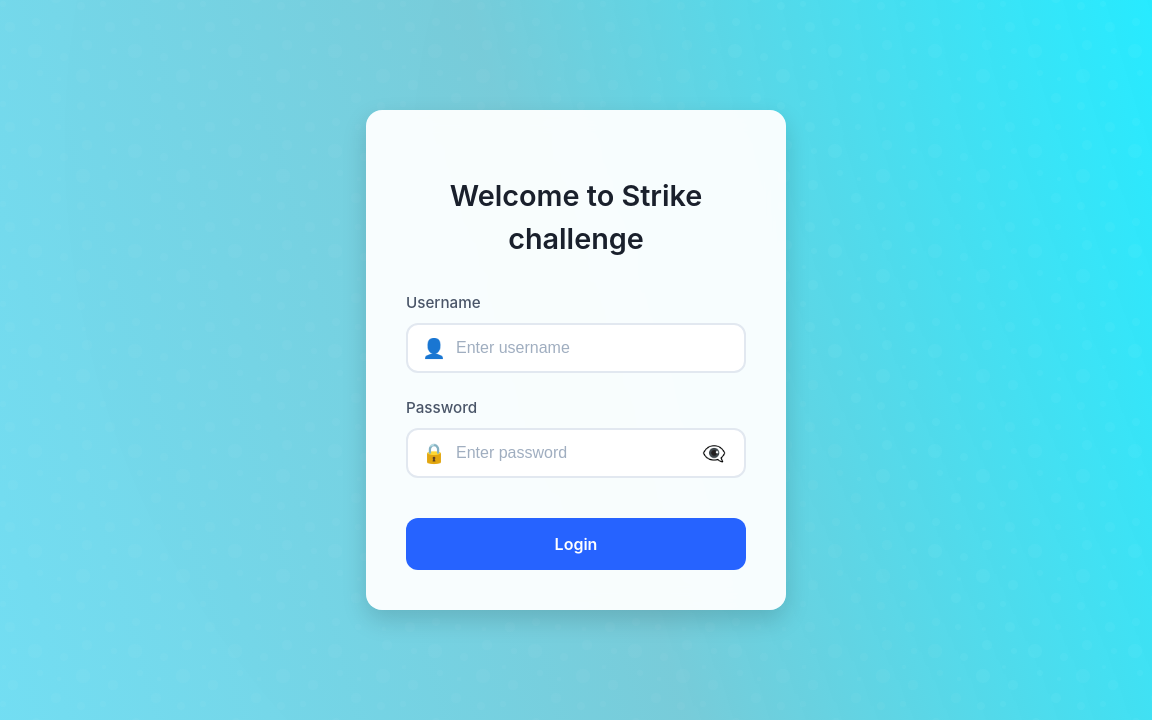
Test: LoginForm › handles login error
Type "wronguser" into the field with placeholder "Enter username". click: point(576, 348)
box: [406,323,746,373]
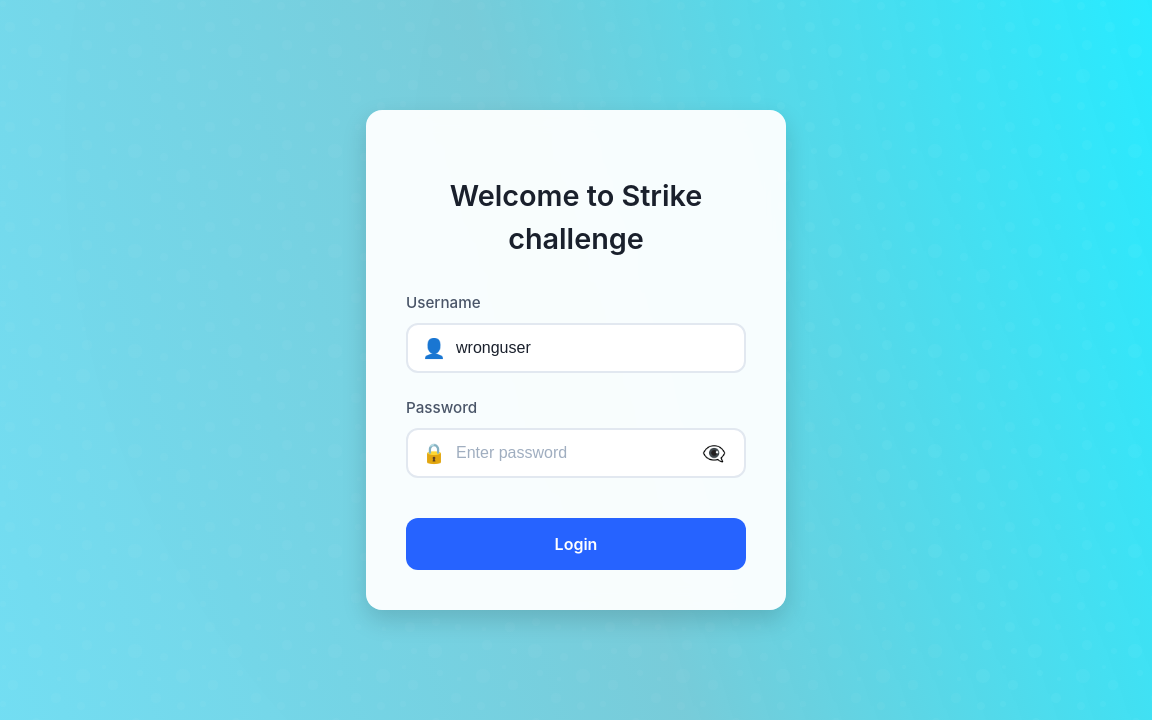
Type "wrongpass" into the password field with placeholder "Enter password". click: point(576, 453)
box: [406,428,746,478]
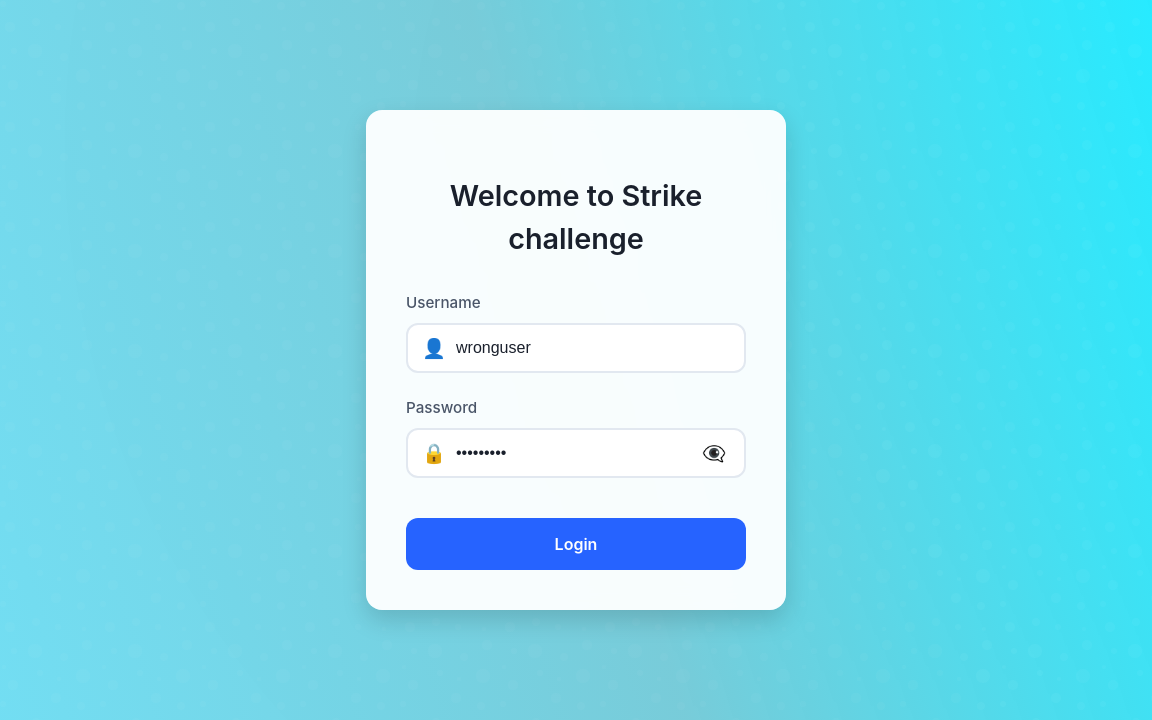
Click the button "Login". click: point(576, 544)
box: [406,518,746,570]
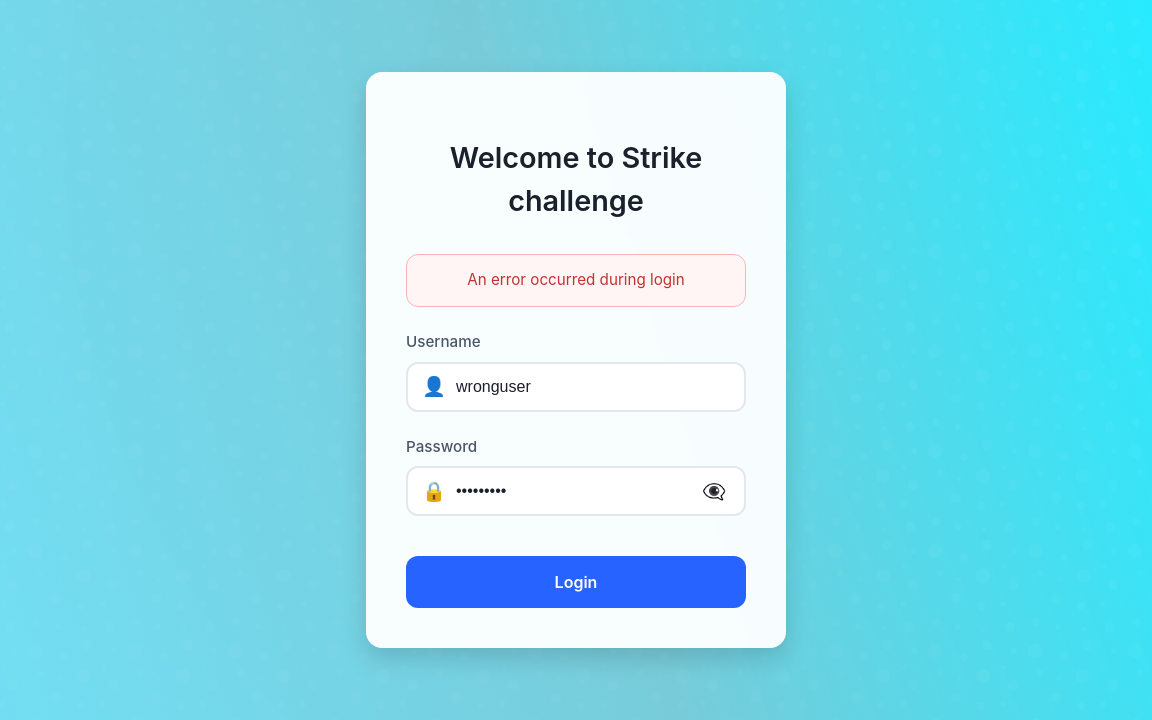
Expected: the text "An error occurred during login" is shown, [406,254,746,307]
